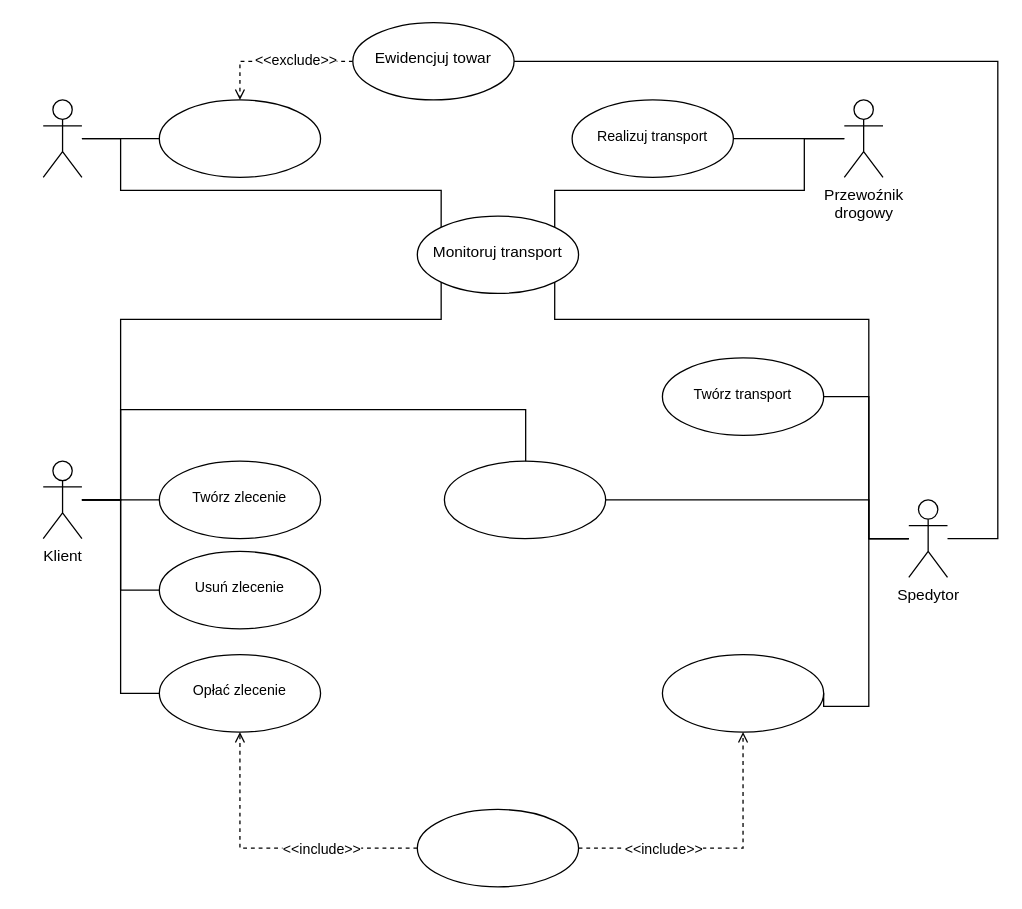
Image size: 1022x909. Some labels were removed from this diagram. Here are the shapes that lost their labels. From the top down, the box of each, then its label:
(42, 99, 82, 177): Magazynier
(158, 99, 321, 177): Zarządzaj towarem
(443, 460, 606, 539): Zarządzaj zleceniem
(661, 653, 824, 732): Zamknij zlecenie
(416, 808, 579, 887): Obsługuj fakturę
